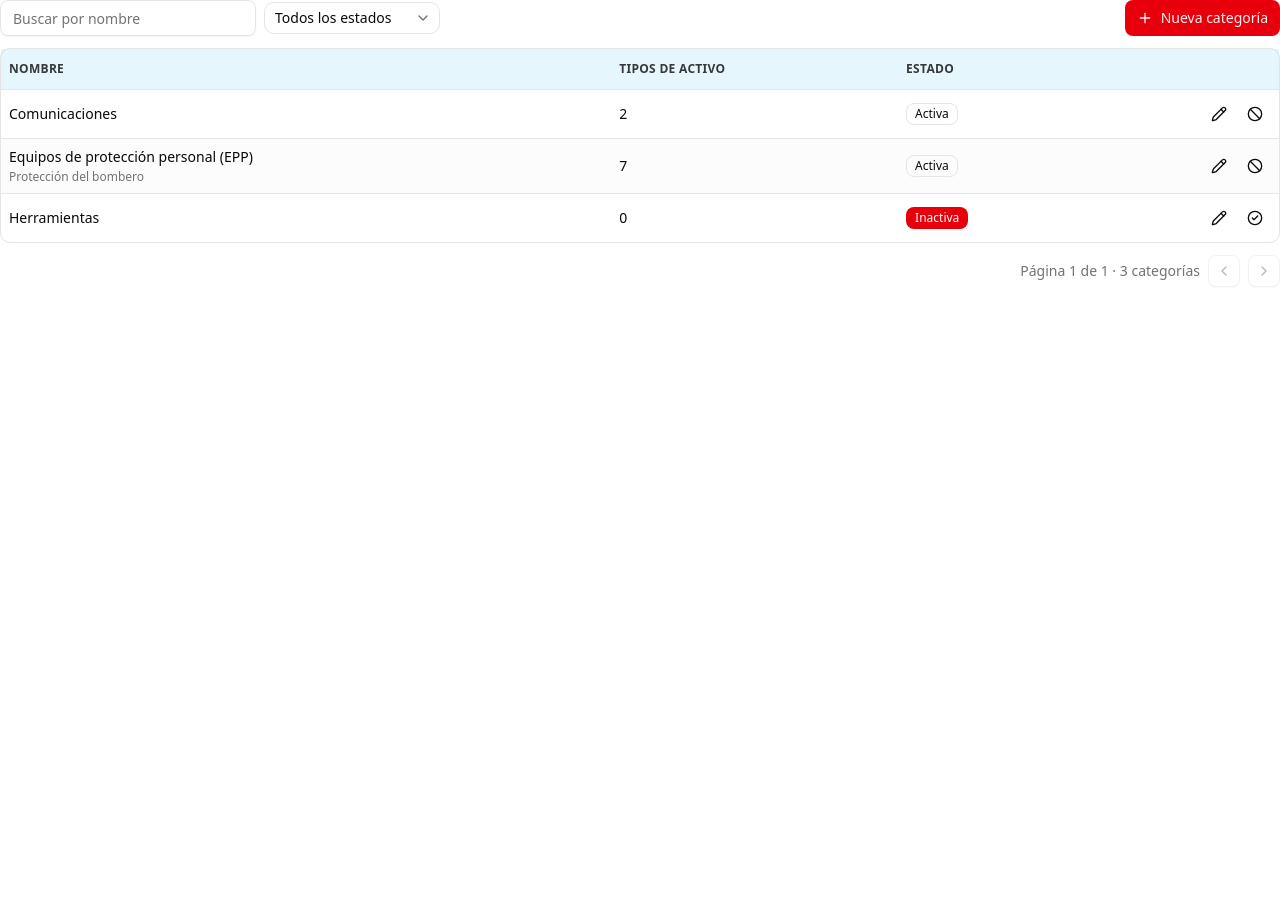
Scenario: CategoriesTab (US1, FR-001) › desactiva tras confirmar, sin cascada sobre sus tipos (US1 escenario 3, FR-008)
Later steps or results of the test are not shown.
Expected: the row "EPP" is shown, 1,138 -> 1279,193
Click the button named "Desactivar Equipos de protección personal (EPP)" at [1255, 166], box 1239,150 -> 1271,182
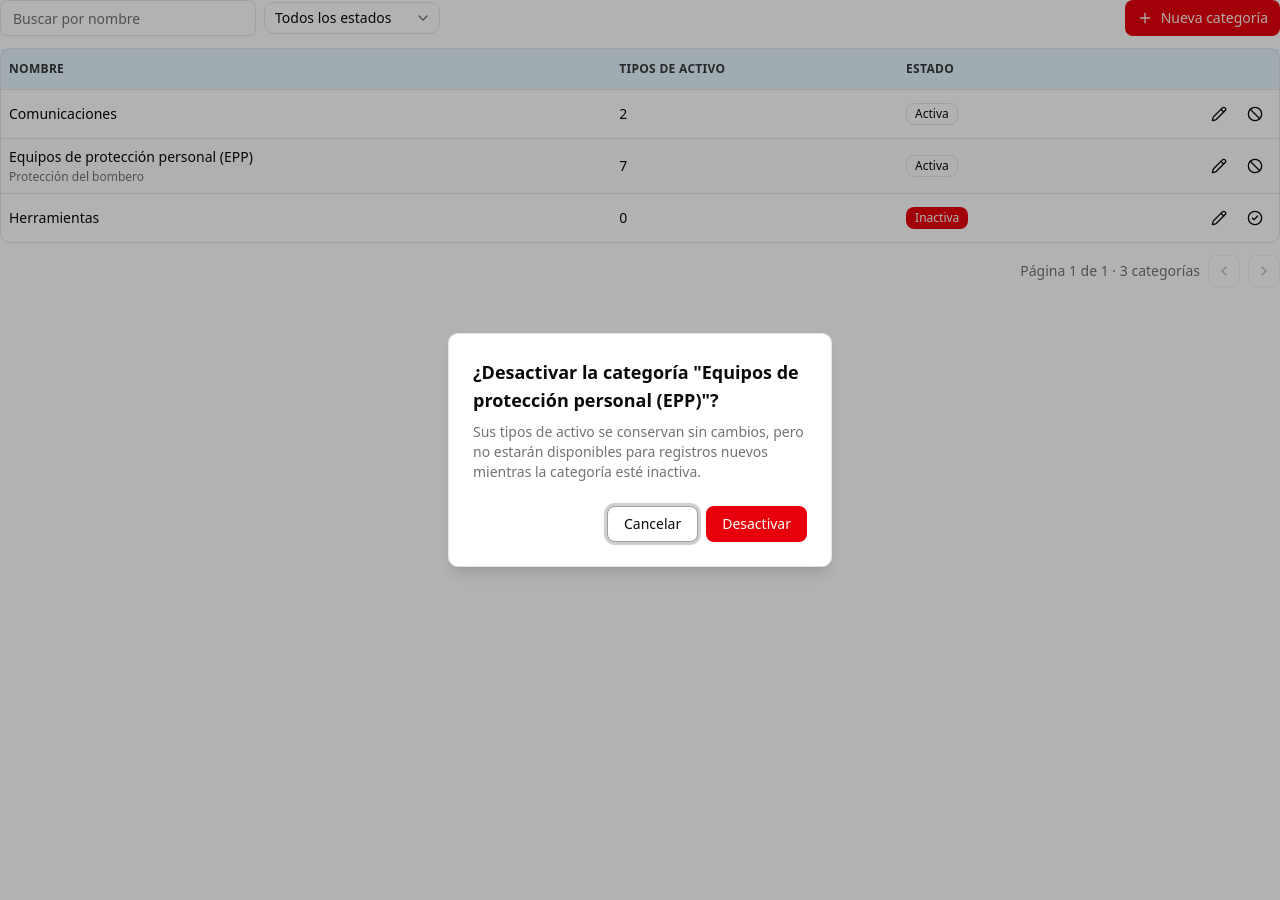
Expected: the text "tipos de activo se conservan" is shown, 473,422 -> 804,481
